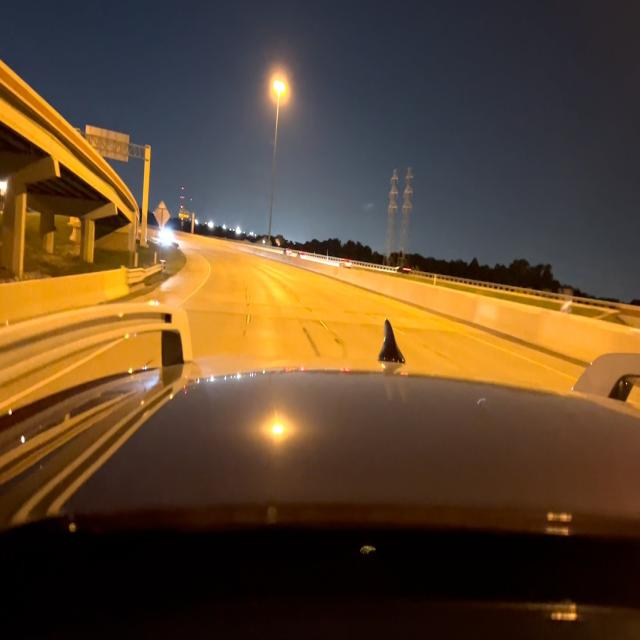back-of-sign: (155, 201, 172, 229)
